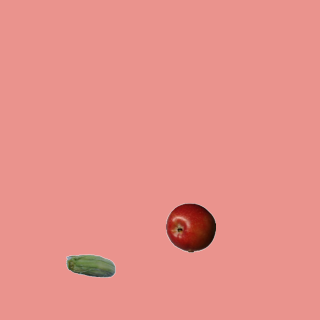Apple Braeburn: (165, 202, 215, 252)
Corn Husk: (65, 242, 115, 292)
